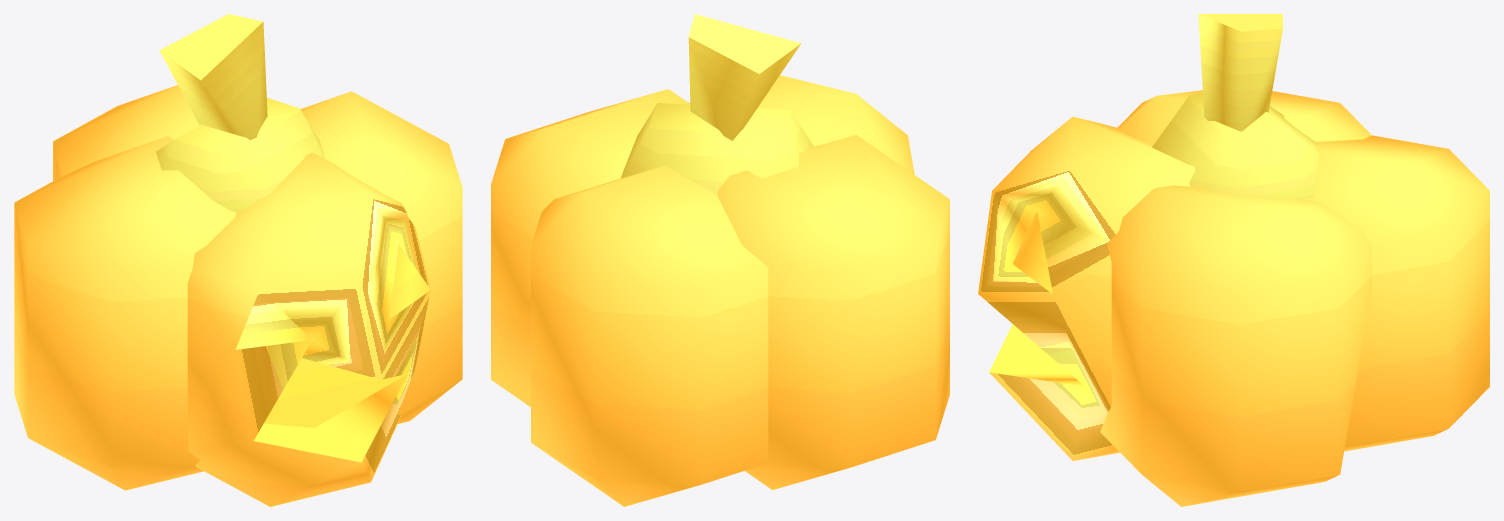
Rendered from pumpkin-carved.glb.
3 views of the same model, side by side, from view 1: azimuth 30°, elevation 25°; view 2: azimuth 150°, elevation 25°; view 3: azimuth 270°, elevation 25° (orthographic). The views are drawn at different scales.
Visible parts, largest first — view 1: pumpkin-carved; view 2: pumpkin-carved; view 3: pumpkin-carved.
Boxes of the visible parts, box(x1,y1,x2,y2) form: pumpkin-carved: box(14, 14, 462, 506); pumpkin-carved: box(491, 14, 949, 506); pumpkin-carved: box(978, 14, 1489, 506).
Size of the model in its own units: 0.348 by 0.3214 by 0.3578.
Materials: 1 (1 with a texture image).
